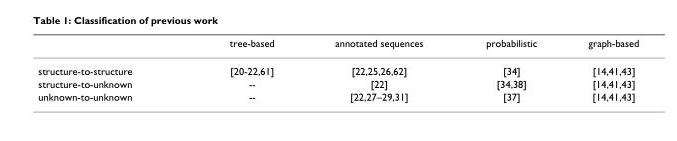table: (37, 36, 638, 102)
table column: (303, 36, 453, 102), (37, 36, 180, 102), (180, 36, 303, 102), (453, 36, 561, 102), (561, 36, 638, 102)
table column header: (37, 36, 638, 56)
table row: (37, 36, 638, 56), (37, 56, 638, 76), (37, 76, 638, 89), (37, 89, 638, 102)
